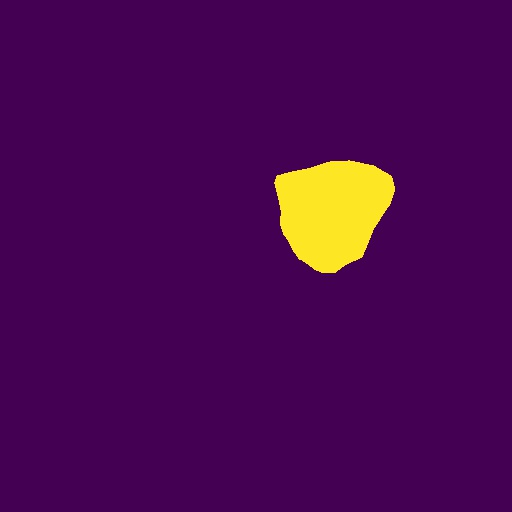Menigiomia_tumour: (274, 160, 395, 273)
